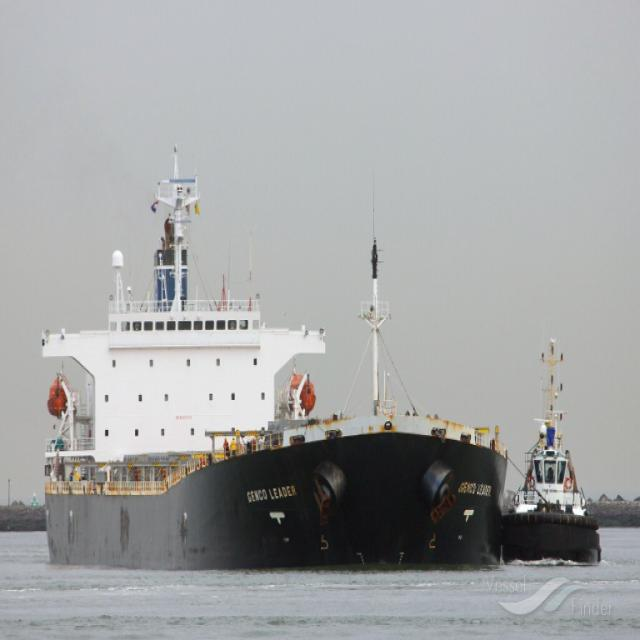OCR: (246, 476, 300, 508), (458, 472, 493, 509)
